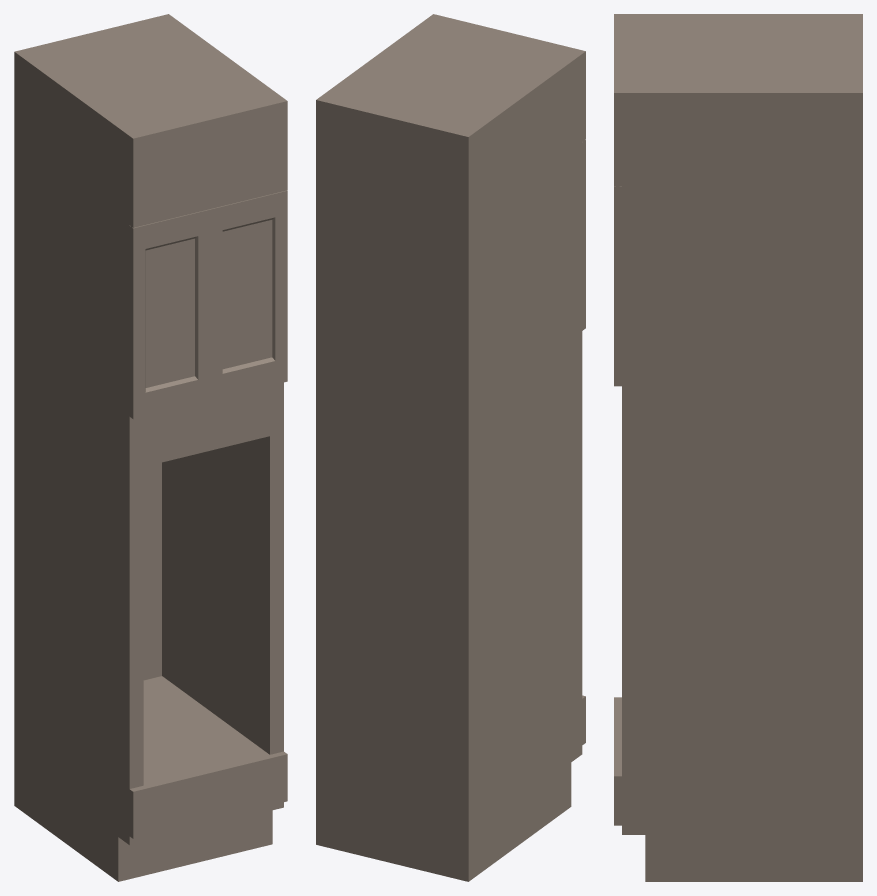
The model's file is WHP-Double-Tall-Oven-Cabinet_std_001_W18in.glb.
3 views of the same model, side by side, from view 1: azimuth 30°, elevation 25°; view 2: azimuth 150°, elevation 25°; view 3: azimuth 270°, elevation 25° (orthographic). The views are drawn at different scales.
Parts seen in each view (by area): view 1: WHP-Double-Tall-Oven-Cabinet.std.001_W18in; view 2: WHP-Double-Tall-Oven-Cabinet.std.001_W18in; view 3: WHP-Double-Tall-Oven-Cabinet.std.001_W18in.
Boxes of the visible parts, <box> form: WHP-Double-Tall-Oven-Cabinet.std.001_W18in: <box>14,14,287,881</box>; WHP-Double-Tall-Oven-Cabinet.std.001_W18in: <box>316,14,585,881</box>; WHP-Double-Tall-Oven-Cabinet.std.001_W18in: <box>614,14,862,881</box>.
Size of the model in its own units: 0.4572 by 2.13 by 0.6096.
